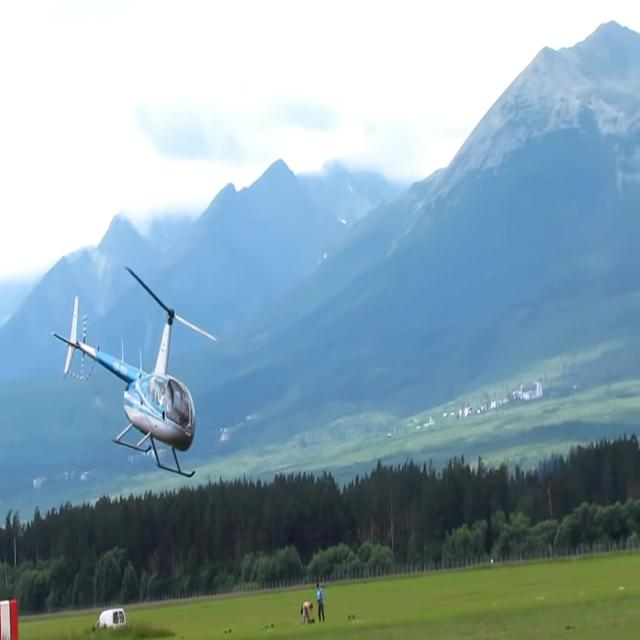CIV_HELO: (50, 292, 198, 478)
